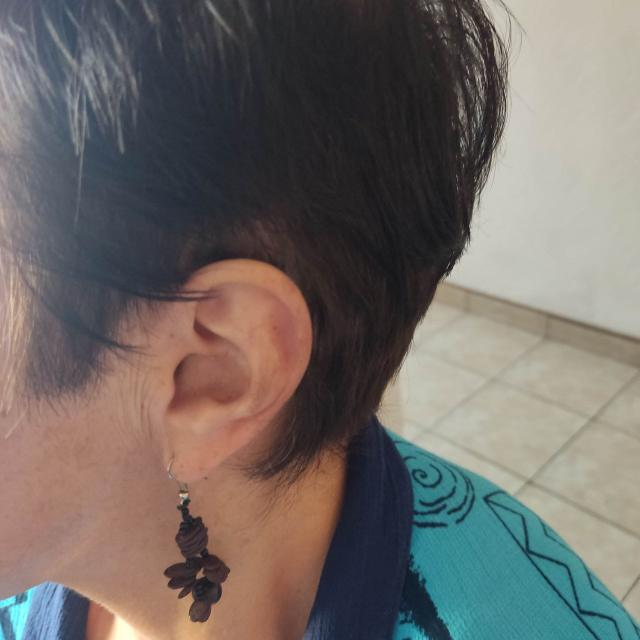ear: (159, 260, 313, 481)
